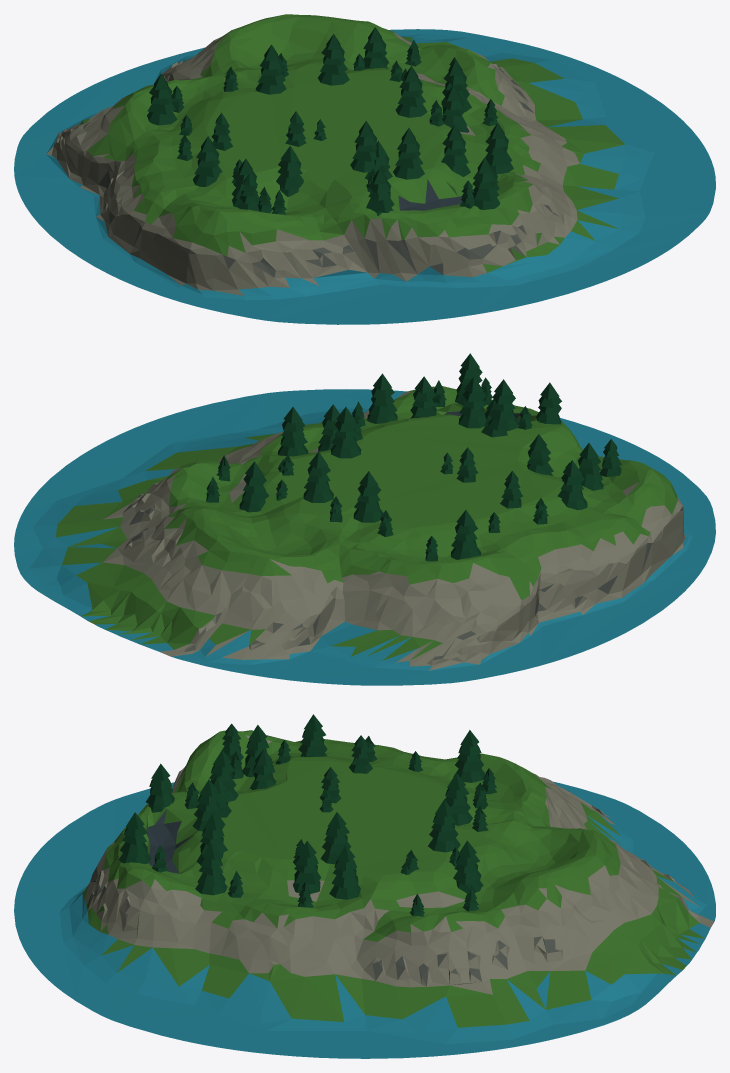
The model's file is Island03.fbx.
The picture shows the model from 3 angles, top to bottom: view 1: azimuth 30°, elevation 25°; view 2: azimuth 150°, elevation 25°; view 3: azimuth 270°, elevation 25°; orthographic projection. The views are drawn at different scales.
Parts seen in each view (by area): view 1: Cube.002; view 2: Cube.002; view 3: Cube.002.
Boxes of the visible parts, box(x1,y1,x2,y2) form: Cube.002: box(14, 14, 715, 324); Cube.002: box(14, 353, 715, 685); Cube.002: box(14, 714, 715, 1058).
Bounding box in the file's own units: 91.57 × 18.22 × 91.54.
